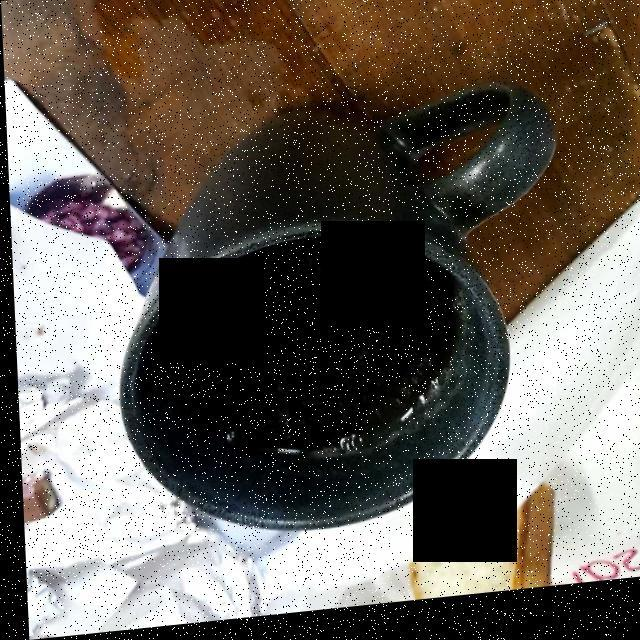tea: (146, 246, 453, 467)
